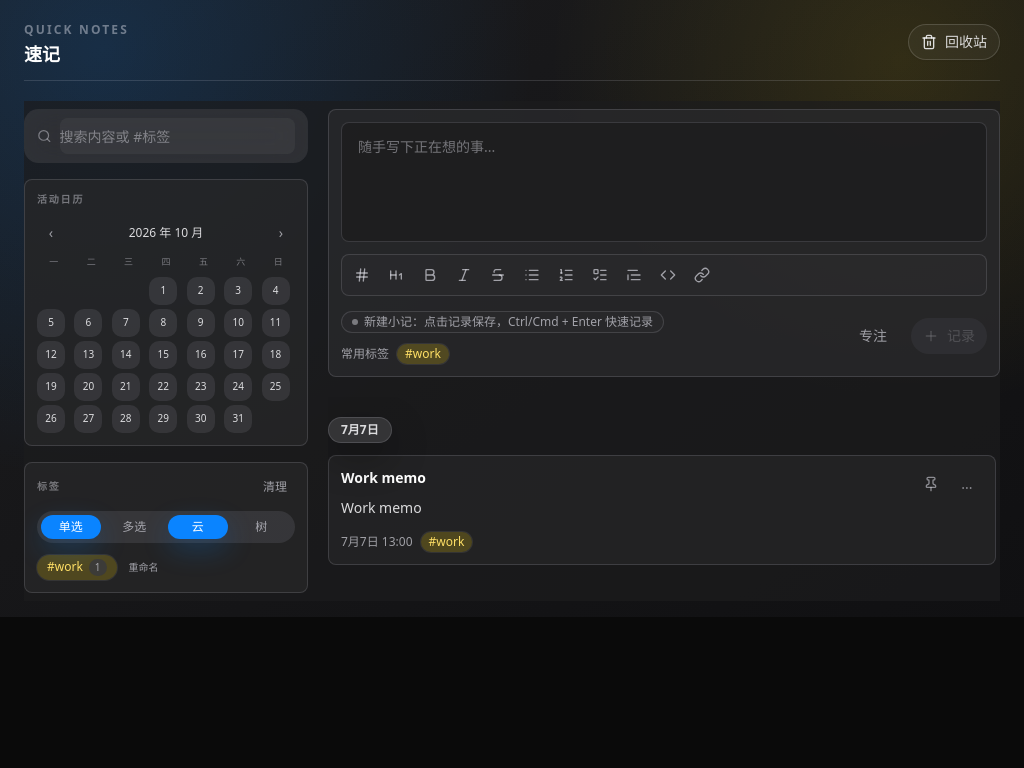
QuickNotesView › inserts the active hash tag autocomplete option with tab
The width and height of the screenshot is (1024, 768).
Type "draft #w today" into the text box named "小记内容" at {"x": 664, "y": 182}, box x1=341 y1=122 x2=987 y2=242
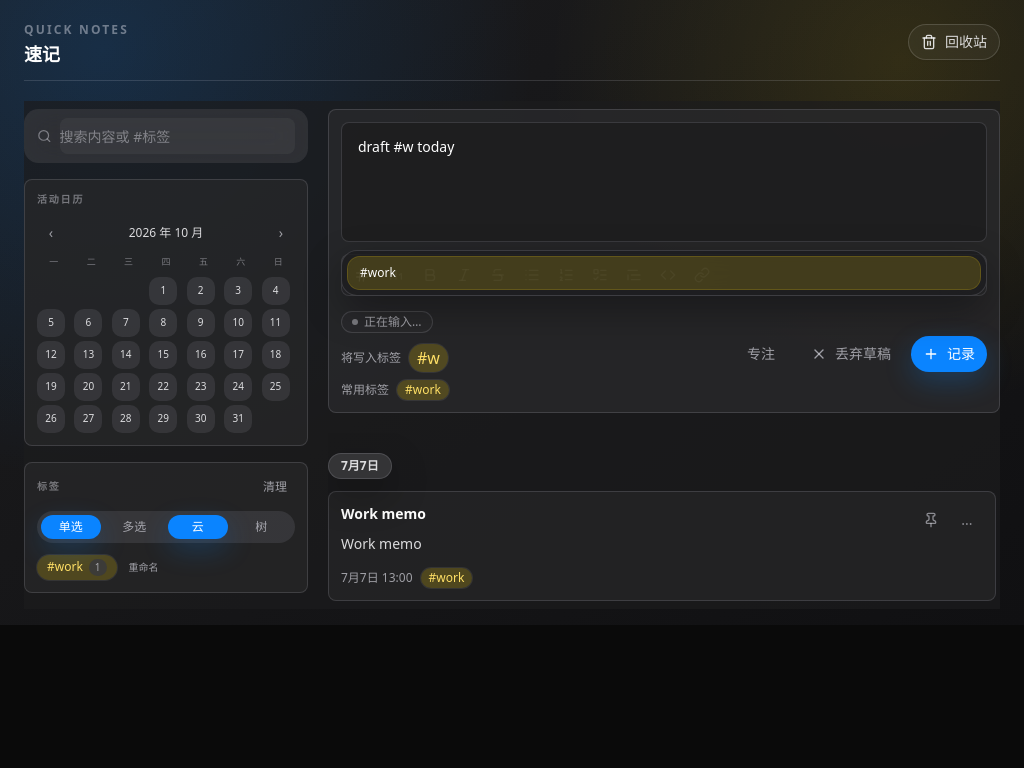
Result: the option "#work" is shown at x1=348 y1=257 x2=980 y2=289
Press Tab in the text box named "小记内容", box x1=341 y1=122 x2=987 y2=242
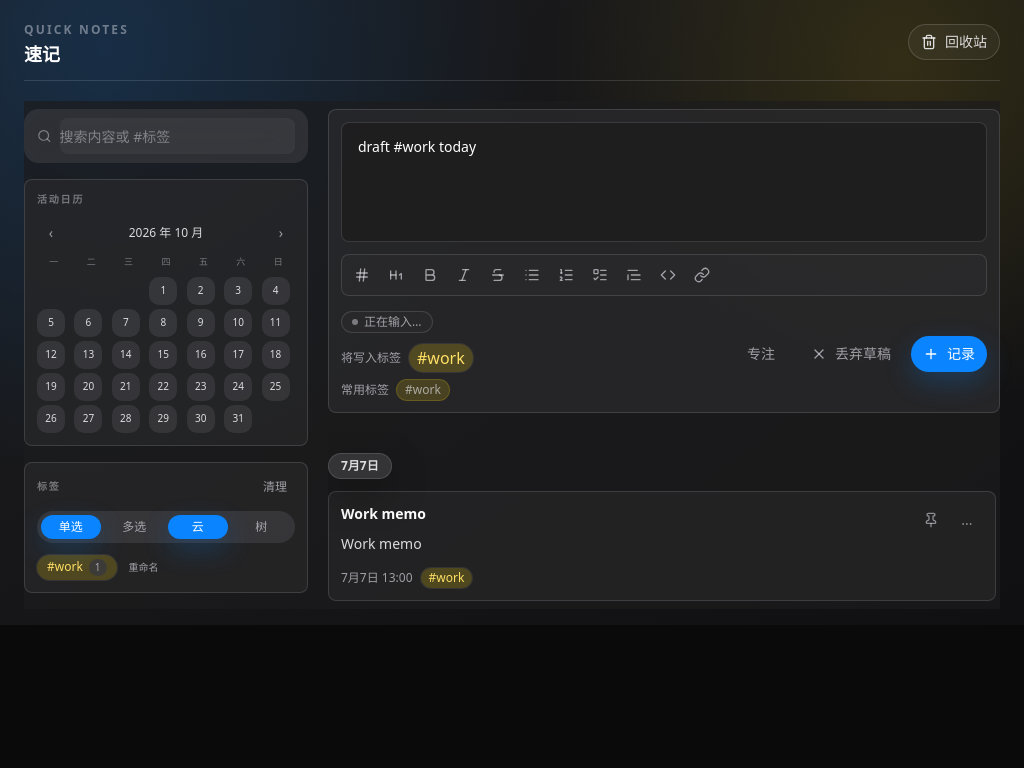
Result: the text box named "小记内容" holds "draft #work today" at x1=341 y1=122 x2=987 y2=242
